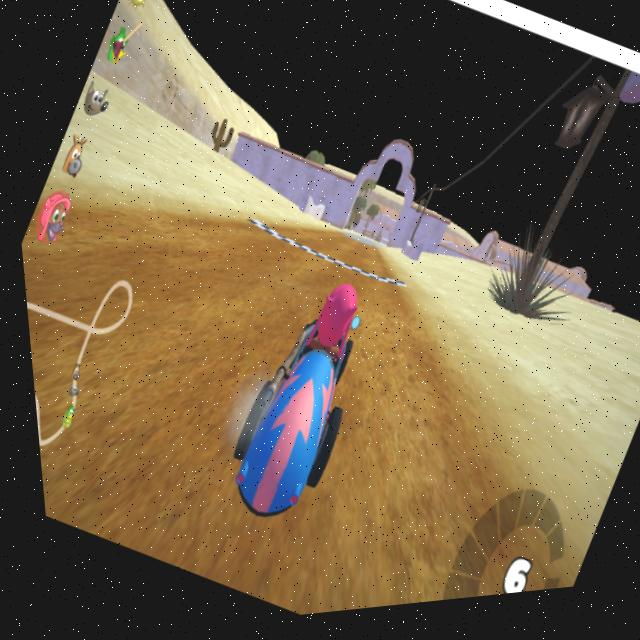player_kart: (185, 271, 399, 545)
track: (288, 208, 409, 311)
